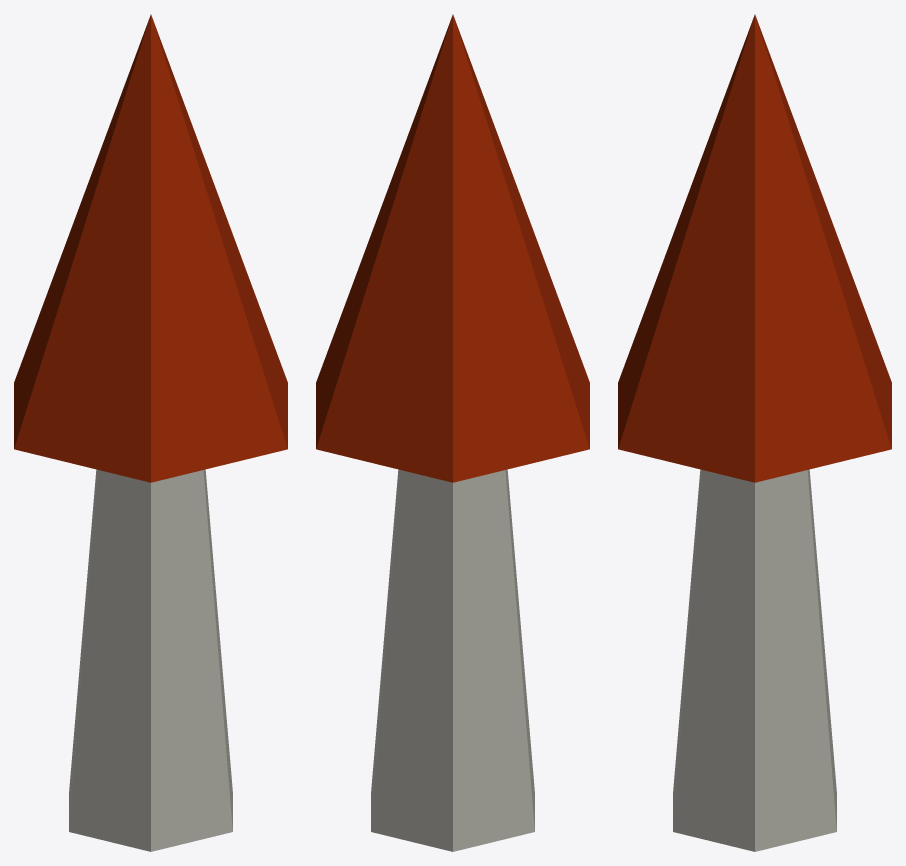
The model's file is Vegetation_Mushroom_Red_Tall_01.fbx.
3 views of the same model, side by side, from view 1: azimuth 30°, elevation 25°; view 2: azimuth 150°, elevation 25°; view 3: azimuth 270°, elevation 25° (orthographic).
Visible parts, largest first — view 1: Vegetation_Mushroom_Red_Tall_01; view 2: Vegetation_Mushroom_Red_Tall_01; view 3: Vegetation_Mushroom_Red_Tall_01.
Boxes of the visible parts, box(x1,y1,x2,y2) form: Vegetation_Mushroom_Red_Tall_01: box(14, 14, 287, 851); Vegetation_Mushroom_Red_Tall_01: box(316, 14, 589, 851); Vegetation_Mushroom_Red_Tall_01: box(618, 14, 891, 851).
Bounding box in the file's own units: 242 × 675 × 210.
